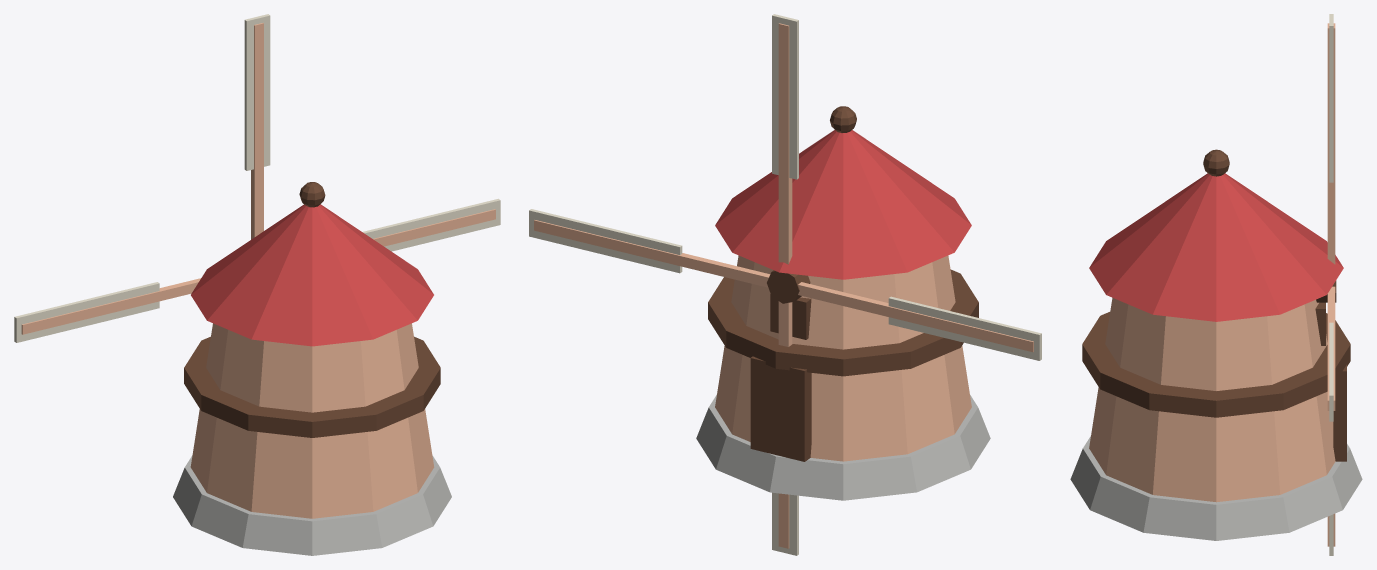
Rendered from windmill.glb.
The picture shows the model from 3 angles, left to right: view 1: azimuth 30°, elevation 25°; view 2: azimuth 150°, elevation 25°; view 3: azimuth 270°, elevation 25°; orthographic projection. The views are drawn at different scales.
Visible parts, largest first — view 1: Tower, Roof, Base, Belt, Blade_1_sail, Blade_2_sail, Blade_1_arm, Blade_0_sail, Blade_2_arm, Blade_0_arm; view 2: Tower, Roof, Base, Belt, Door, Blade_1_arm, Blade_2_arm, Blade_0_arm, Blade_2_sail, Blade_0_sail, Blade_1_sail, Blade_3_arm (+3 smaller); view 3: Tower, Roof, Base, Belt, Blade_1_arm, Door, Blade_1_sail, Blade_0_arm, RoofKnob, Blade_0_sail.
Part boxes in pixels (x1,y1,x2,y2): Tower: (190,323,434,518); Roof: (191,204,433,346); Base: (173,455,451,555); Belt: (184,336,440,437); Blade_1_sail: (244,14,270,170); Blade_2_sail: (14,282,159,342); Blade_1_arm: (251,23,263,239); Blade_0_sail: (362,198,500,251); Blade_2_arm: (21,278,200,334); Blade_0_arm: (373,209,495,246); Tower: (715,255,971,461); Roof: (715,130,971,279); Base: (696,394,990,500); Belt: (708,269,978,376); Door: (750,356,811,461); Blade_1_arm: (778,23,792,264); Blade_2_arm: (798,282,1033,352); Blade_0_arm: (534,220,770,287); Blade_2_sail: (888,296,1041,360); Blade_0_sail: (529,209,682,273); Blade_1_sail: (772,14,798,179); Blade_3_arm: (778,301,792,548); Tower: (1089,298,1335,502); Roof: (1089,173,1343,321); Base: (1070,436,1362,540); Belt: (1082,312,1350,417); Blade_1_arm: (1327,23,1335,264); Door: (1333,364,1346,461); Blade_1_sail: (1329,14,1333,182); Blade_0_arm: (1327,286,1335,410); RoofKnob: (1203,149,1229,176); Blade_0_sail: (1329,322,1333,421).
Size of the model in its own units: 9.41 by 9.41 by 4.7.
